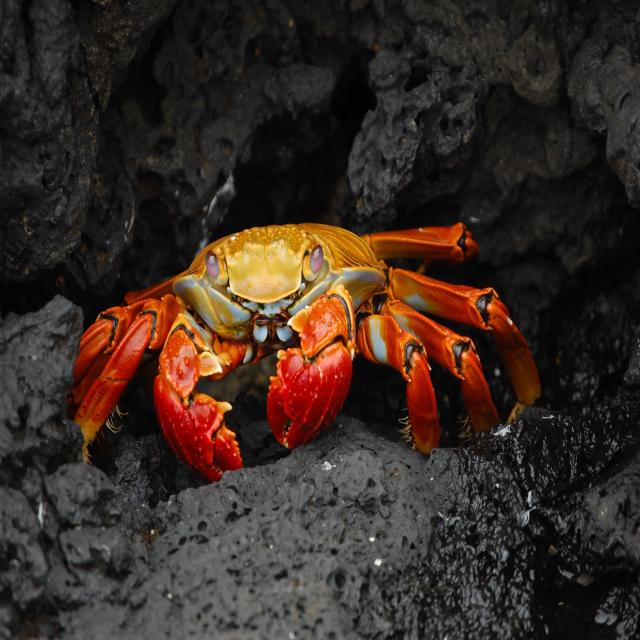animal: (68, 212, 542, 488)
